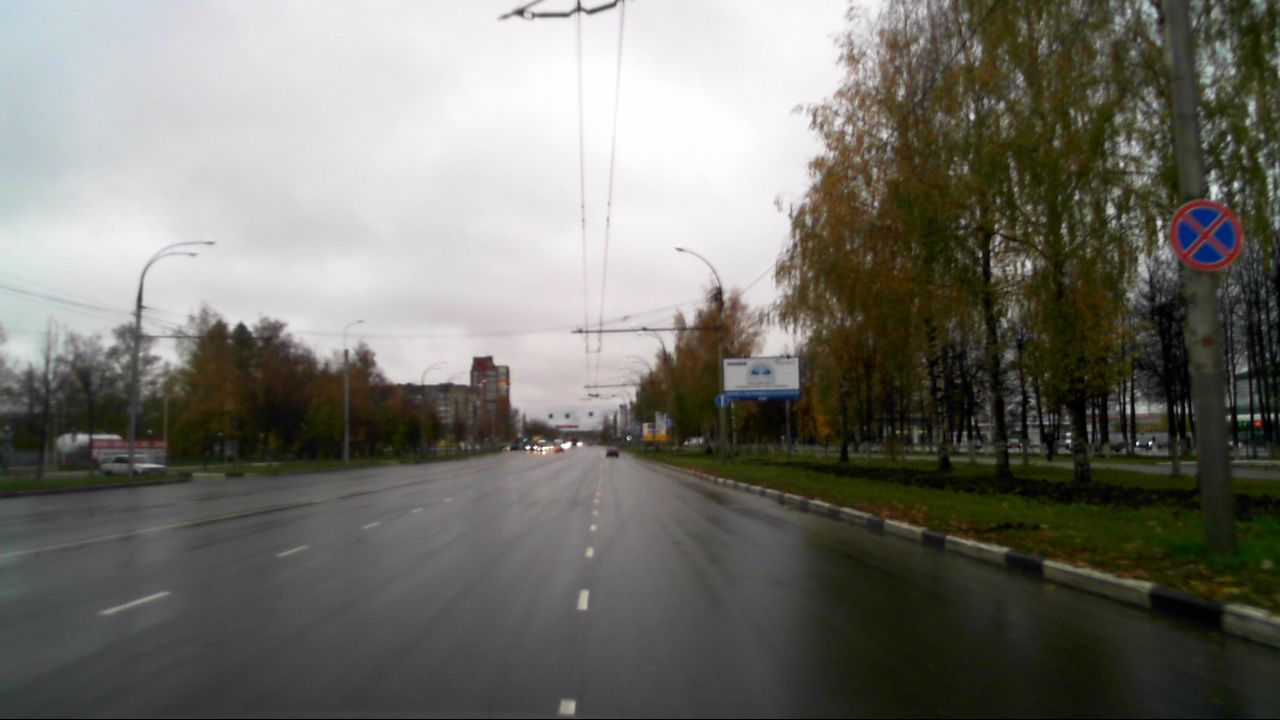No Parking: (1167, 200, 1242, 272)
